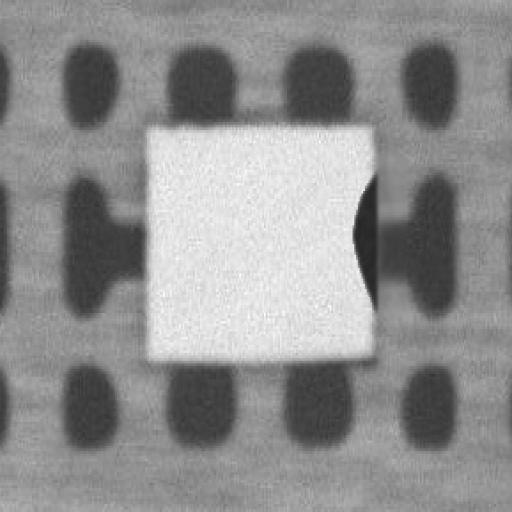DIE_BROKEN: (349, 167, 379, 305)
